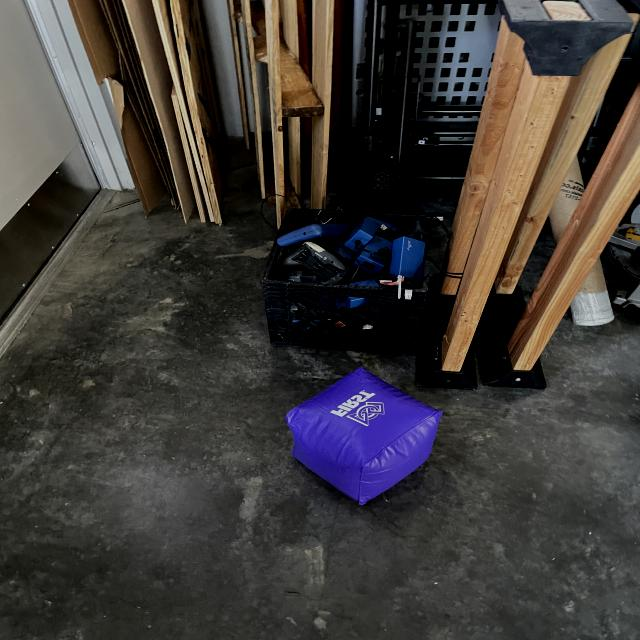frc_cube: (284, 362, 444, 509)
